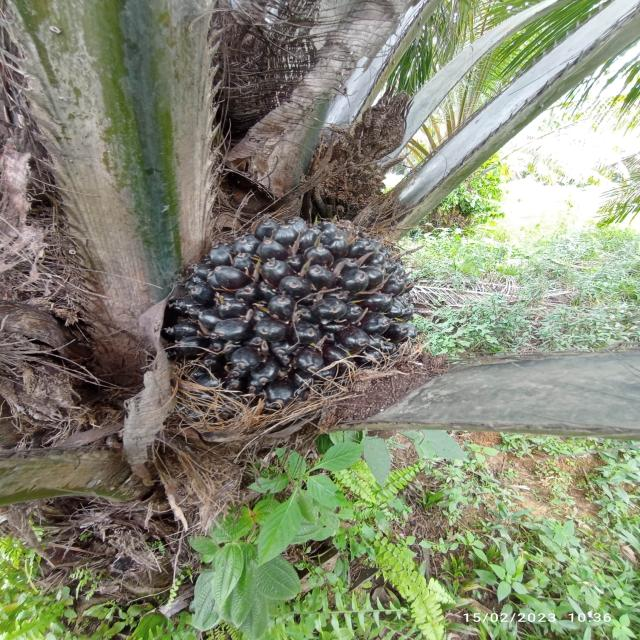fraksi 00: (116, 181, 463, 417)
